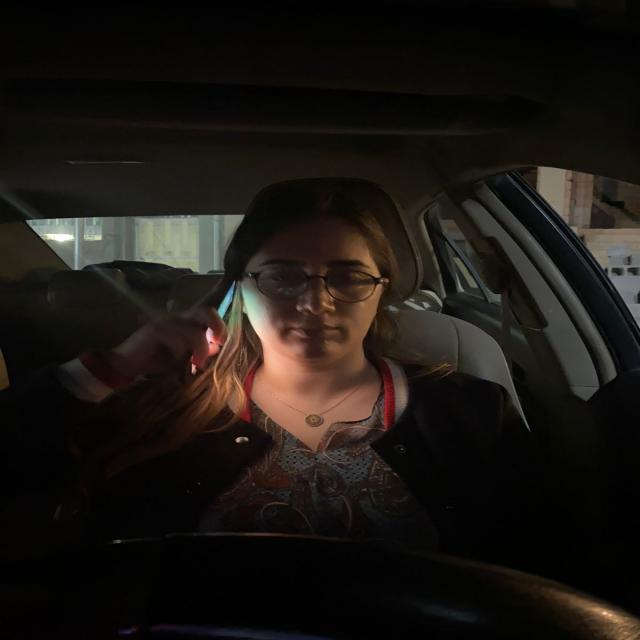mobile: (190, 288, 230, 376)
person: (232, 184, 400, 378)
